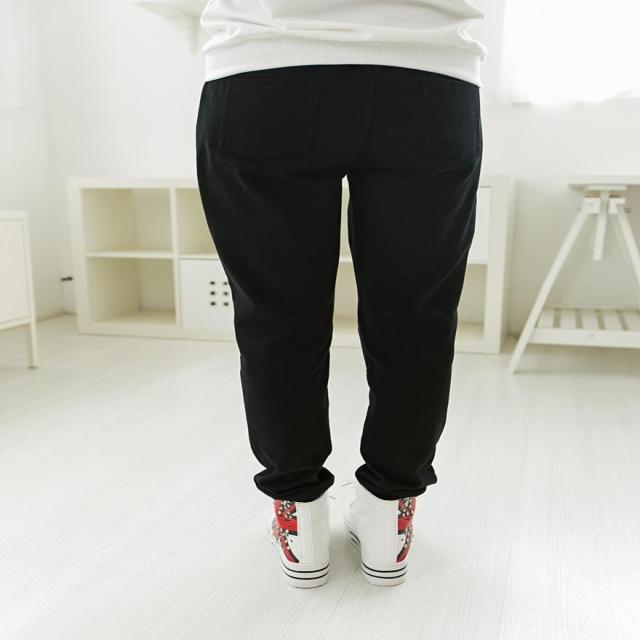trousers: (196, 45, 480, 492)
